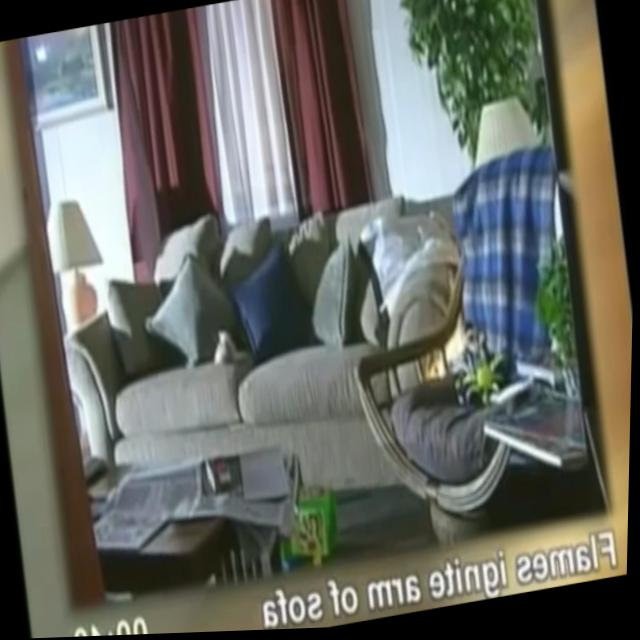fire: (424, 318, 475, 382)
